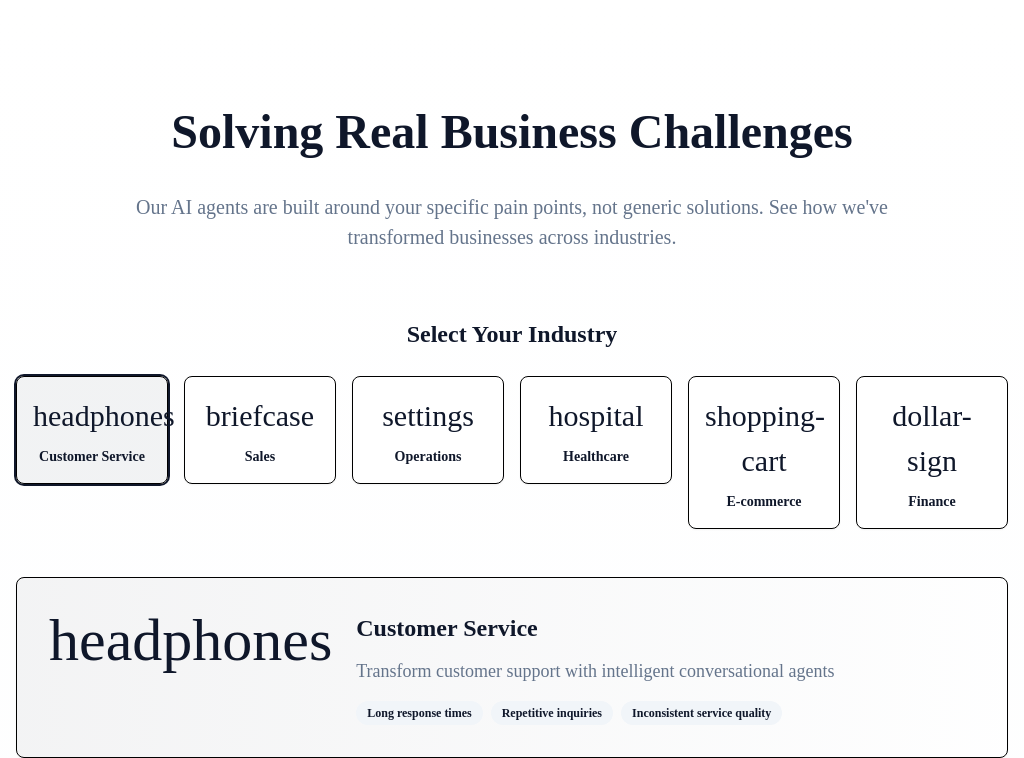
Test case: PainPointSolver › filters pain points by selected industry
This screenshot has width=1024, height=758.
Note: Click on Sales industry
Click the heading "Sales" at (260, 456), box [245,449,275,464]
(page scrolled)
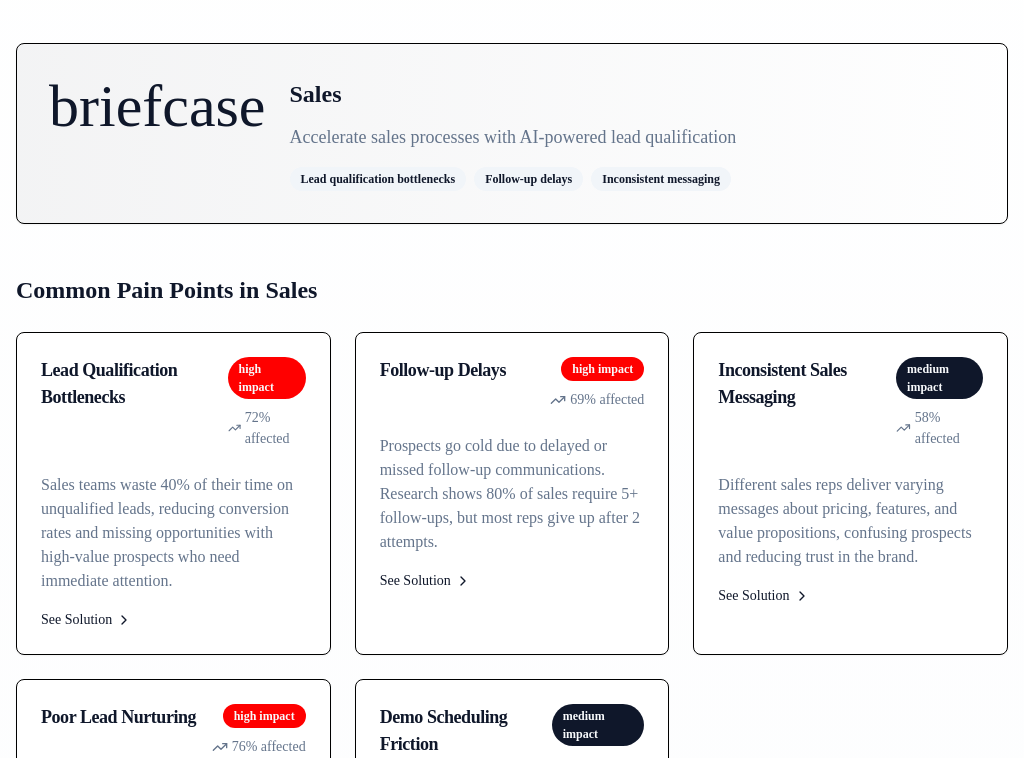
Now the text "Lead Qualification Bottlenecks" is shown, box [41,360,177,407]
